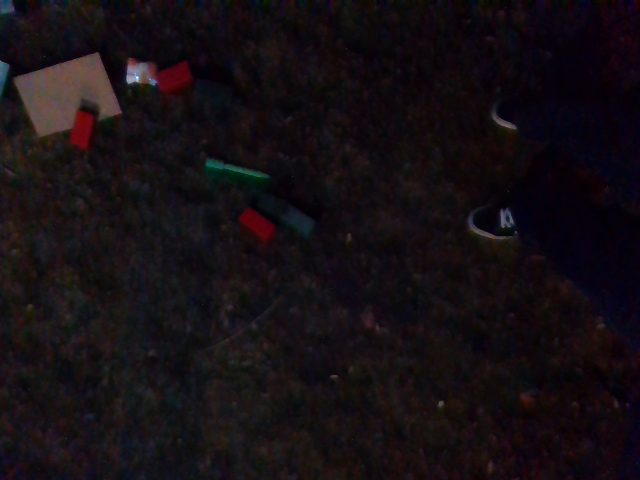Probe: (202, 154, 271, 187)
